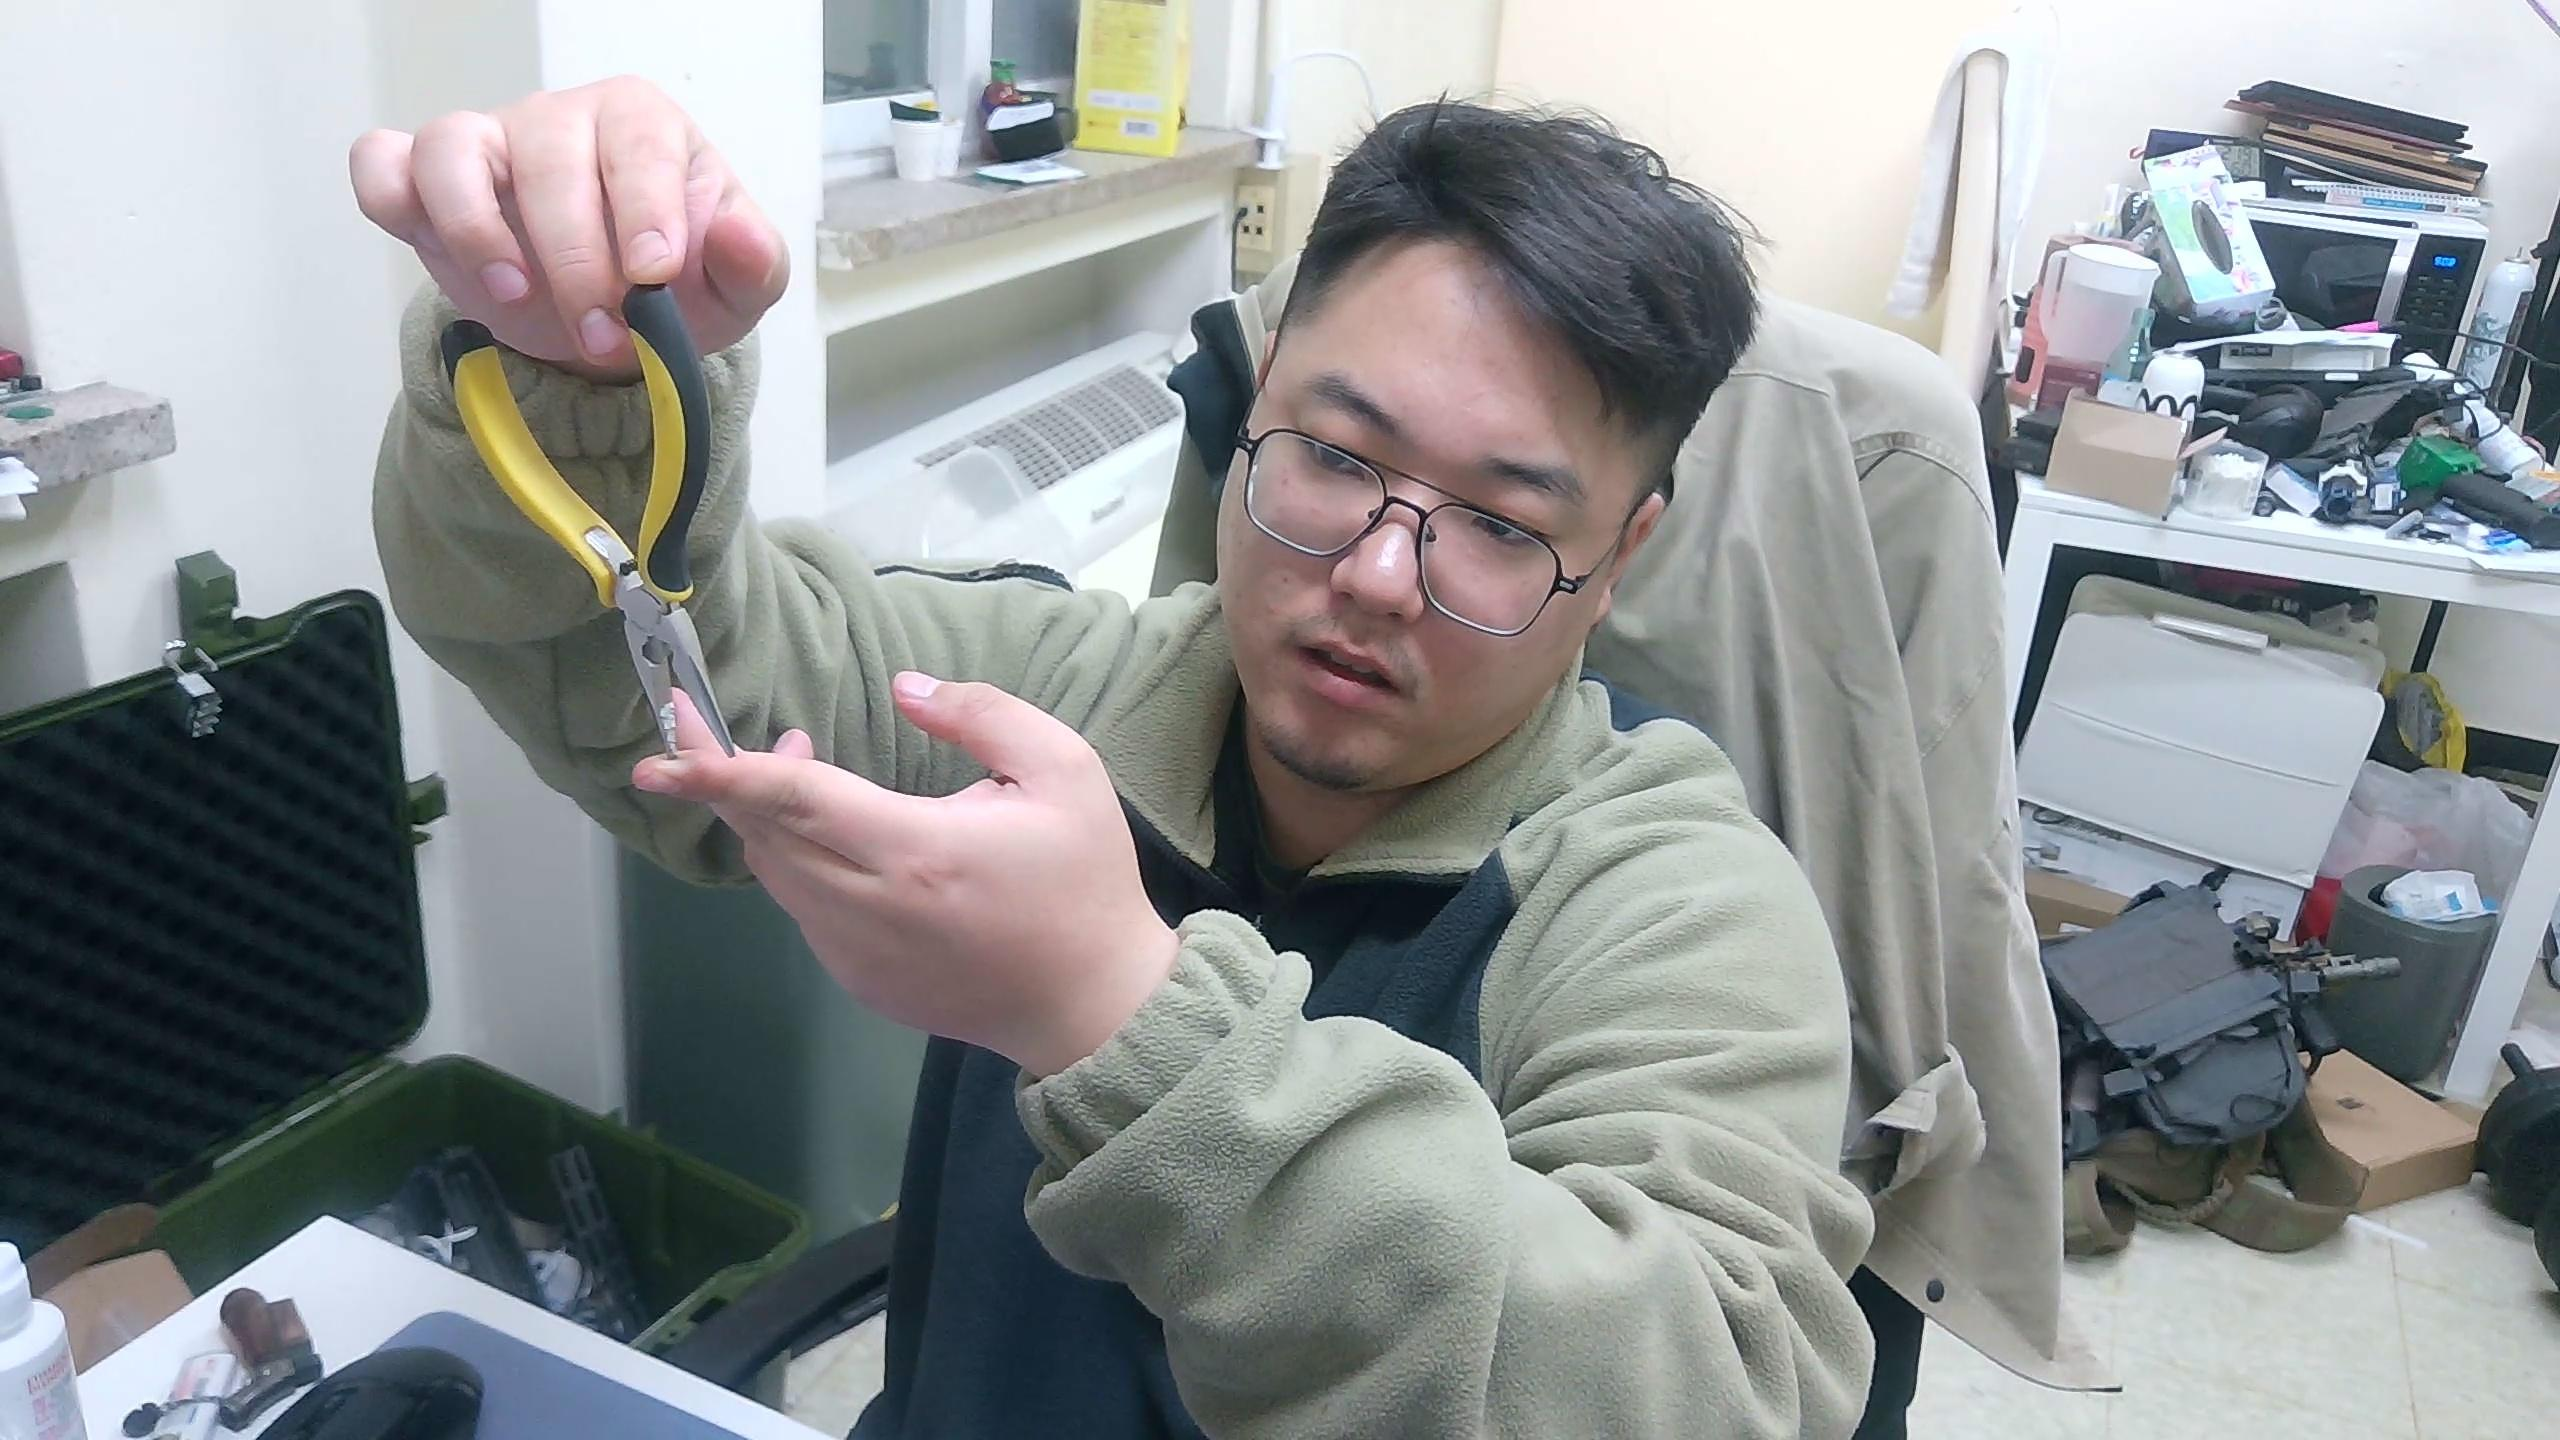earphone: (445, 278, 744, 765)
